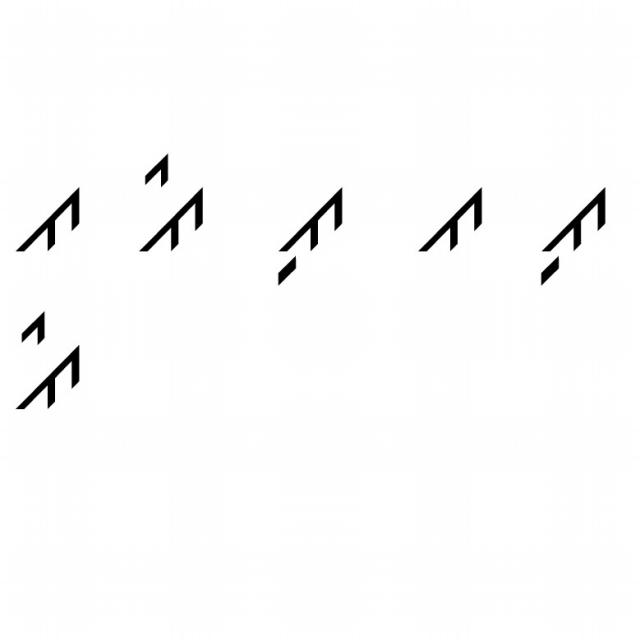ka: (12, 163, 90, 264), (412, 170, 492, 264)
ki: (127, 150, 222, 266), (10, 306, 86, 426)
ku: (264, 176, 355, 292), (533, 177, 616, 295)
